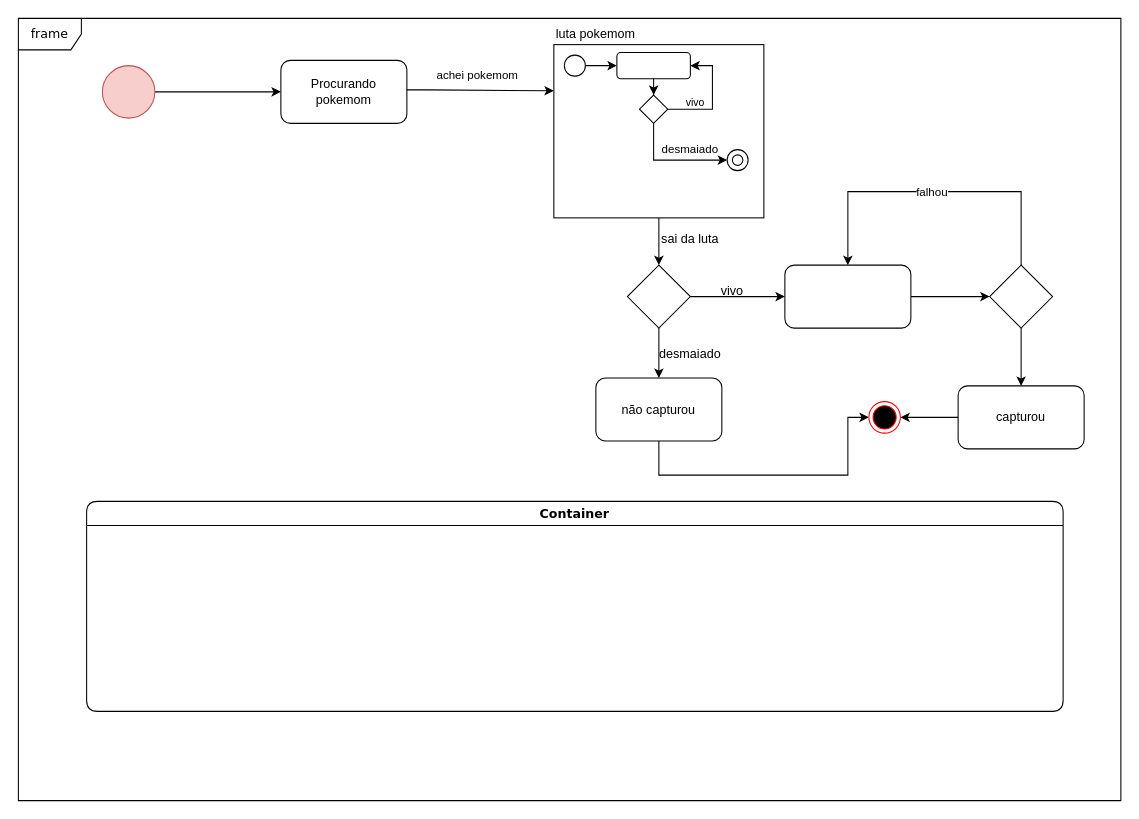
Image size: 1139x819. Some labels were removed from this diagram. The shapes that lost their labels are listed below. From the top down, each one's box as (x1, y1, x2, y2) in pixels, then its label:
(616, 51, 690, 79): batendo pokemom
(784, 264, 911, 328): usando pokebola
